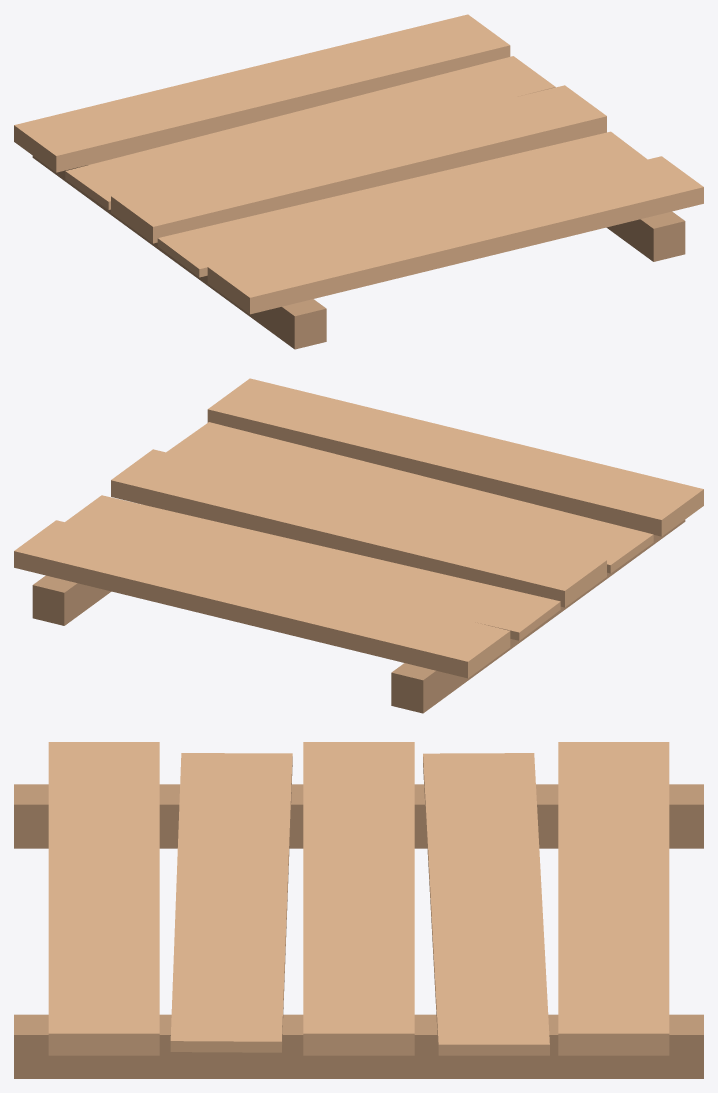
File: platform.glb
3 views of the same model, one above another, from view 1: azimuth 30°, elevation 25°; view 2: azimuth 150°, elevation 25°; view 3: azimuth 270°, elevation 25° (orthographic). The views are drawn at different scales.
Parts seen in each view (by area): view 1: platform; view 2: platform; view 3: platform.
Part boxes in pixels (x1,y1,x2,y2): platform: (14, 14, 703, 349); platform: (14, 378, 703, 713); platform: (14, 742, 703, 1078).
Bounding box in the file's own units: 1 × 0.105 × 1.
